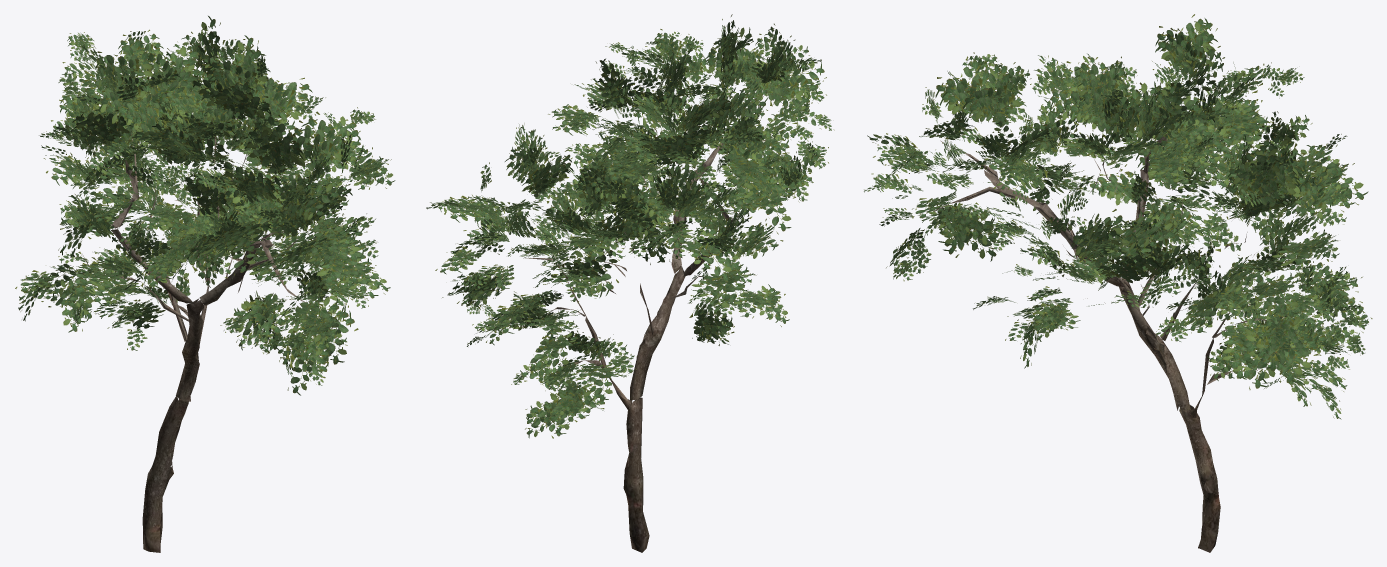
File: ph_tree_small_02.glb
The picture shows the model from 3 angles, left to right: view 1: azimuth 30°, elevation 25°; view 2: azimuth 150°, elevation 25°; view 3: azimuth 270°, elevation 25°; orthographic projection. The views are drawn at different scales.
Parts seen in each view (by area): view 1: tree_small_02_LOD0; view 2: tree_small_02_LOD0; view 3: tree_small_02_LOD0.
Boxes of the visible parts, x1,y1,x2,y2 form: tree_small_02_LOD0: (15, 16, 395, 552); tree_small_02_LOD0: (426, 14, 834, 552); tree_small_02_LOD0: (864, 14, 1372, 552).
Bounding box in the file's own units: 3.03 × 4.66 × 4.3.
Materials: 3 (3 with a texture image).
